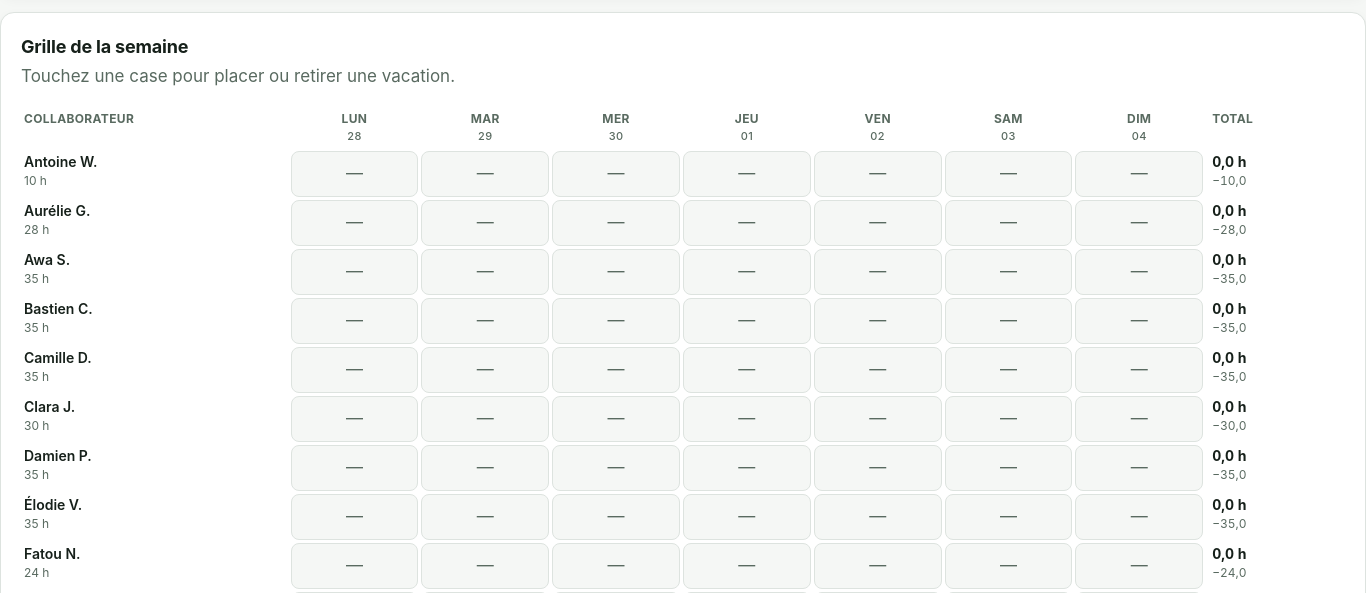
Test: équité sur quatre semaines › explique que toutes les sujétions ne se valent pas
The width and height of the screenshot is (1366, 593).
(page scrolled)
Click the button named "Camille D., samedi": click(1008, 370) [945,347,1072,393]
(page scrolled)
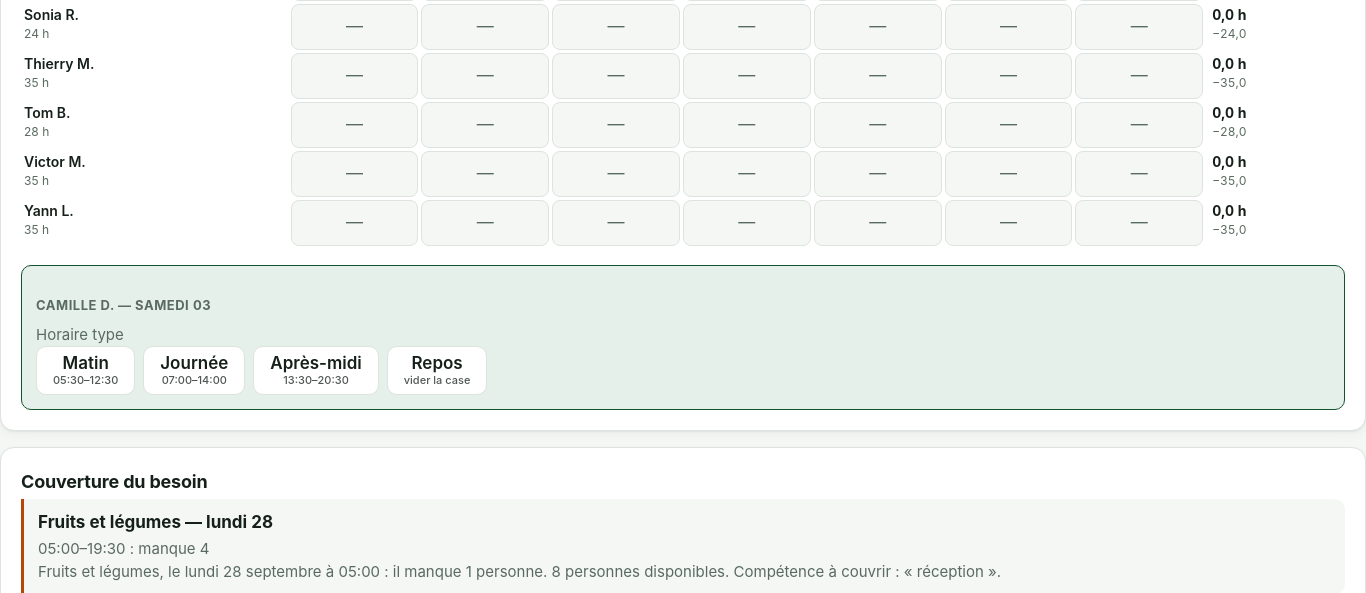
Click the button "Matin 05:30–12:30": click(86, 370) [36,346,135,395]
(page scrolled)
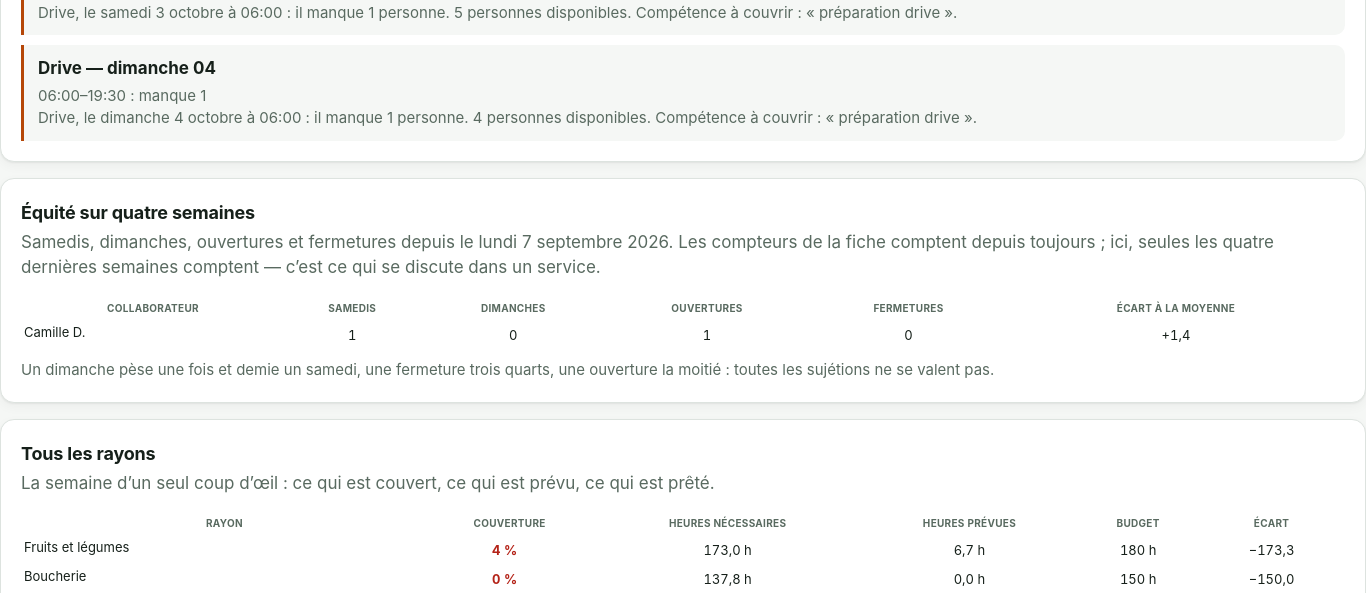
expect the text "Un dimanche pèse une fois et demie" is shown: met, box [21,360,994,379]
